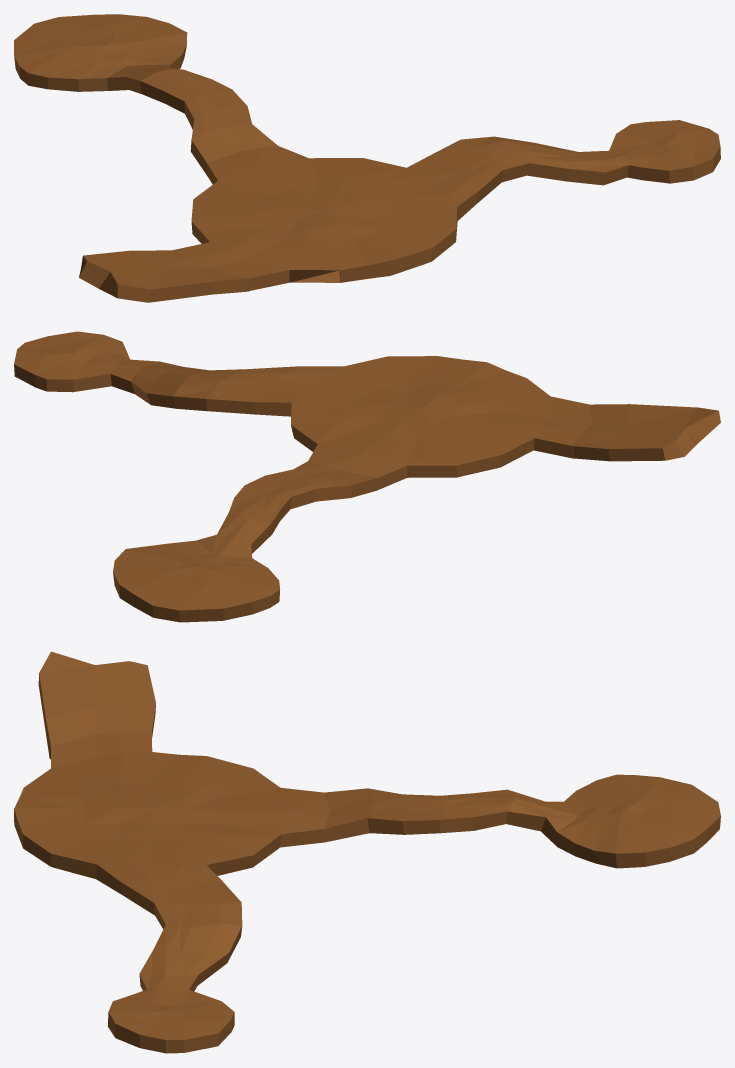
File: cave_base.fbx
The picture shows the model from 3 angles, top to bottom: view 1: azimuth 30°, elevation 25°; view 2: azimuth 150°, elevation 25°; view 3: azimuth 270°, elevation 25°; orthographic projection. The views are drawn at different scales.
Visible parts, largest first — view 1: Plane.035; view 2: Plane.035; view 3: Plane.035.
Part boxes in pixels (x1,y1,x2,y2): Plane.035: (14,14,720,302); Plane.035: (14,331,720,622); Plane.035: (14,651,720,1053).
Size of the model in its own units: 2559 by 235 by 2270.
